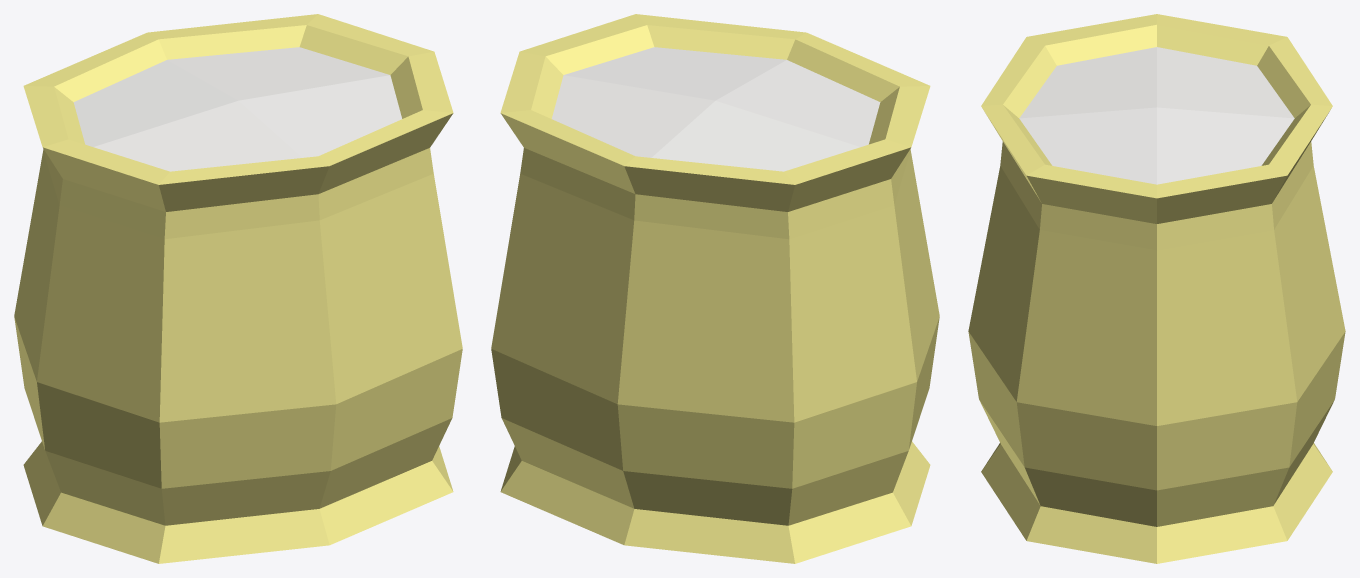
The model's file is Open_bag.fbx.
The picture shows the model from 3 angles, left to right: view 1: azimuth 30°, elevation 25°; view 2: azimuth 150°, elevation 25°; view 3: azimuth 270°, elevation 25°; orthographic projection. The views are drawn at different scales.
Parts seen in each view (by area): view 1: Open_bag; view 2: Open_bag; view 3: Open_bag.
Boxes of the visible parts, x1,y1,x2,y2 form: Open_bag: (14, 14, 462, 563); Open_bag: (491, 14, 939, 563); Open_bag: (968, 14, 1345, 563).
Bounding box in the file's own units: 63.65 × 53.48 × 57.69.
